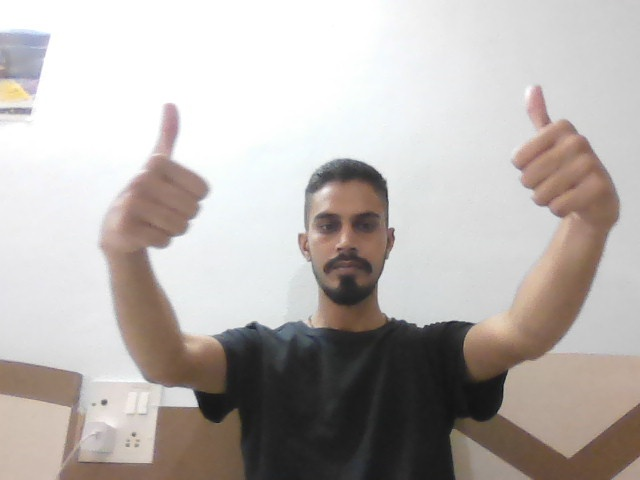ThumbsUp: (508, 75, 632, 224)
